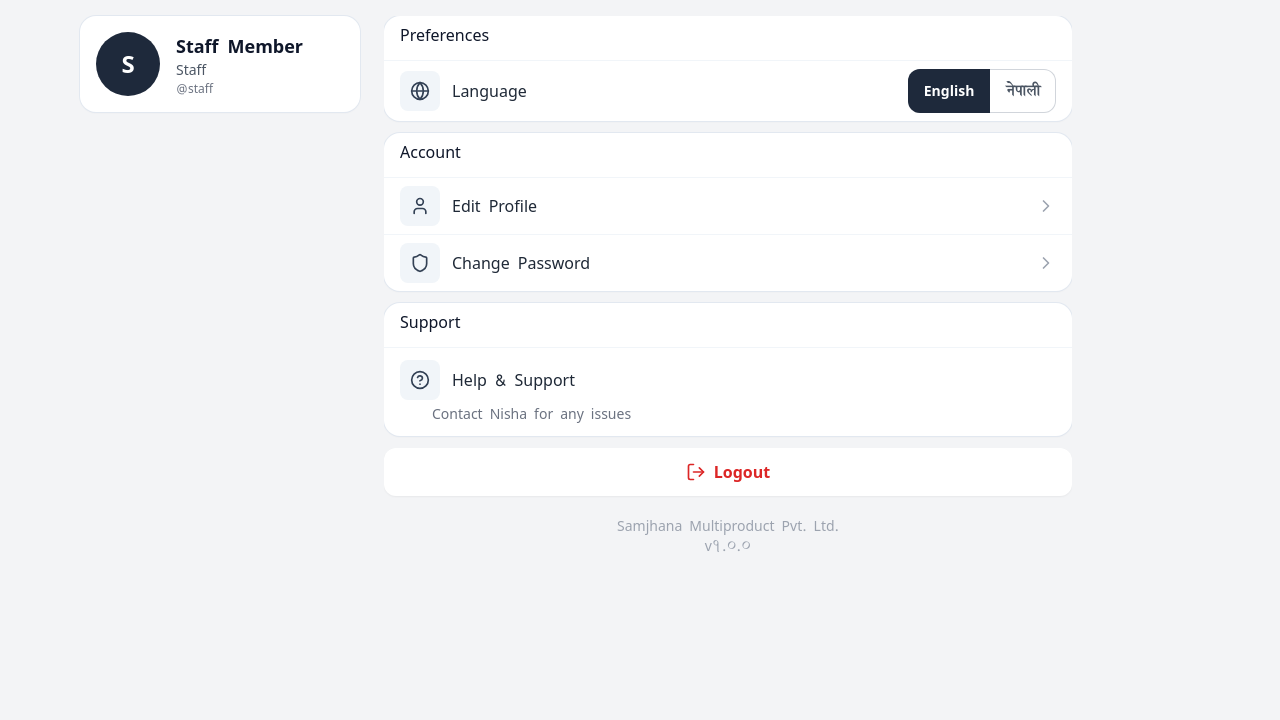
SettingsPage change password › sends the change when the new password is exactly 8 characters
Click the button "Change Password": (420, 263) [384,234,1072,291]
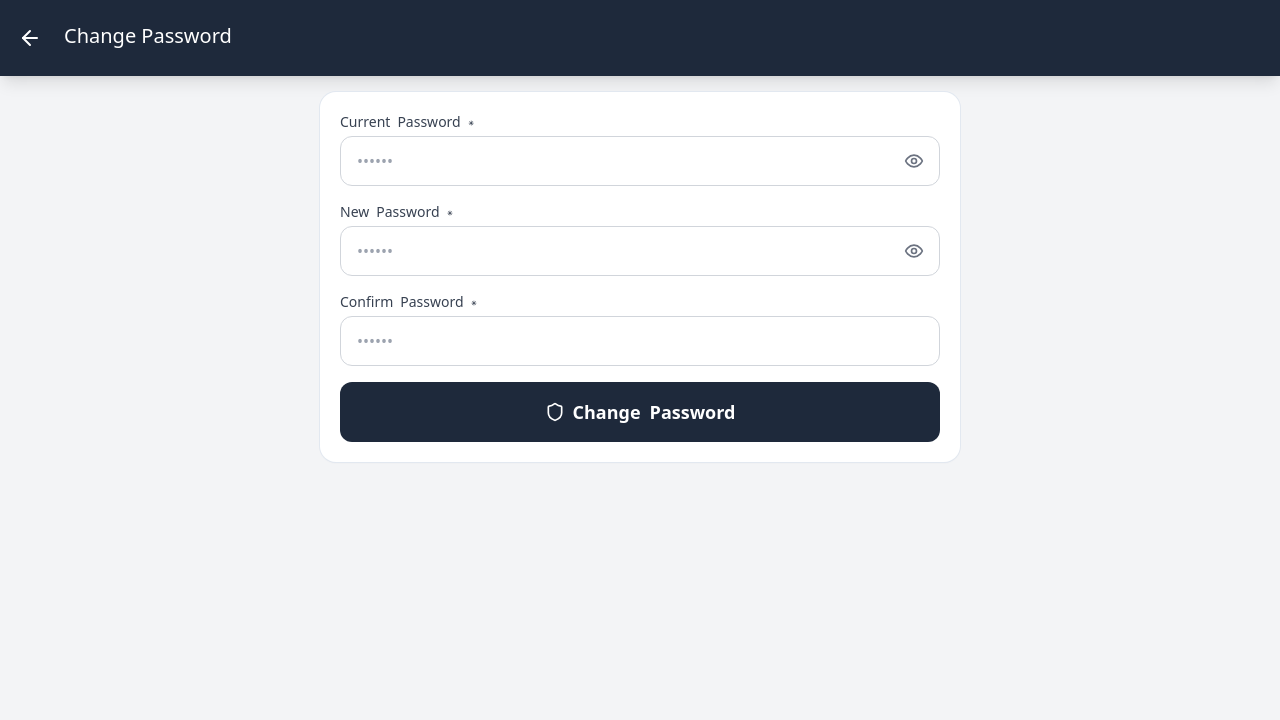
In the password field with placeholder "••••••" below "Current Password": (640, 161) [340,136,940,186], type "old-pass-123"
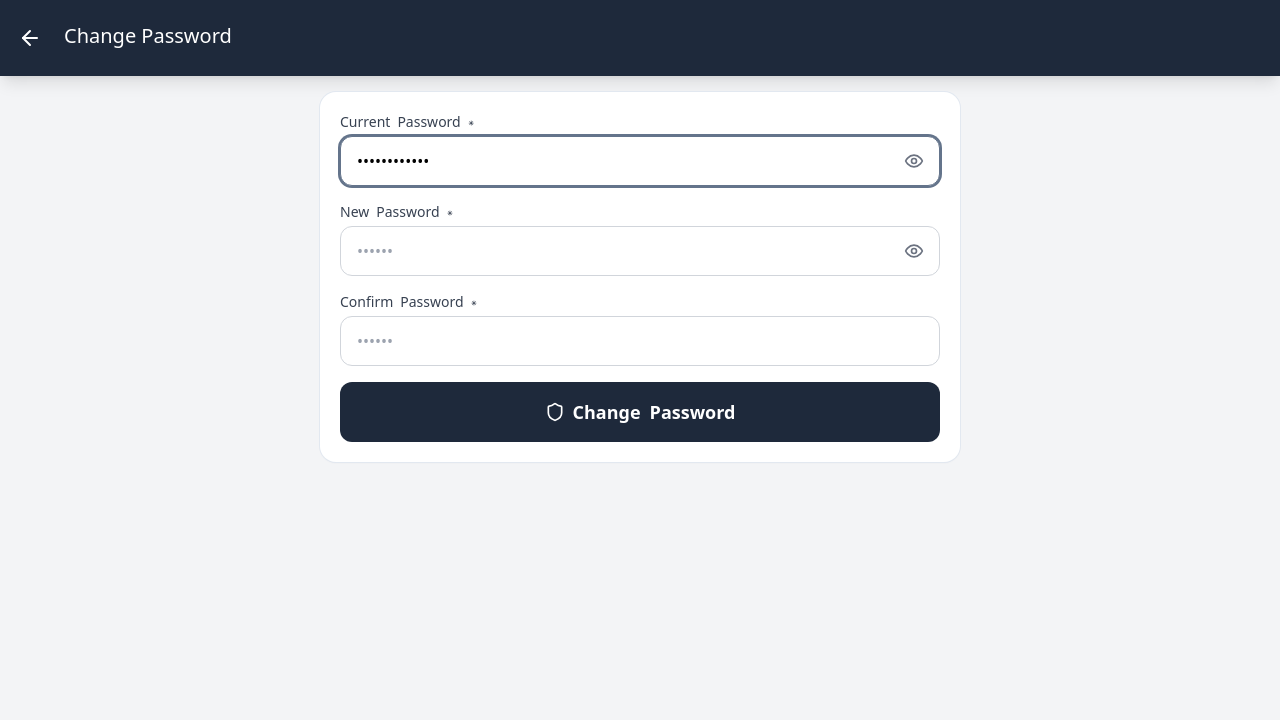
In the password field with placeholder "••••••" below "New Password": (640, 251) [340,226,940,276], type "12345678"
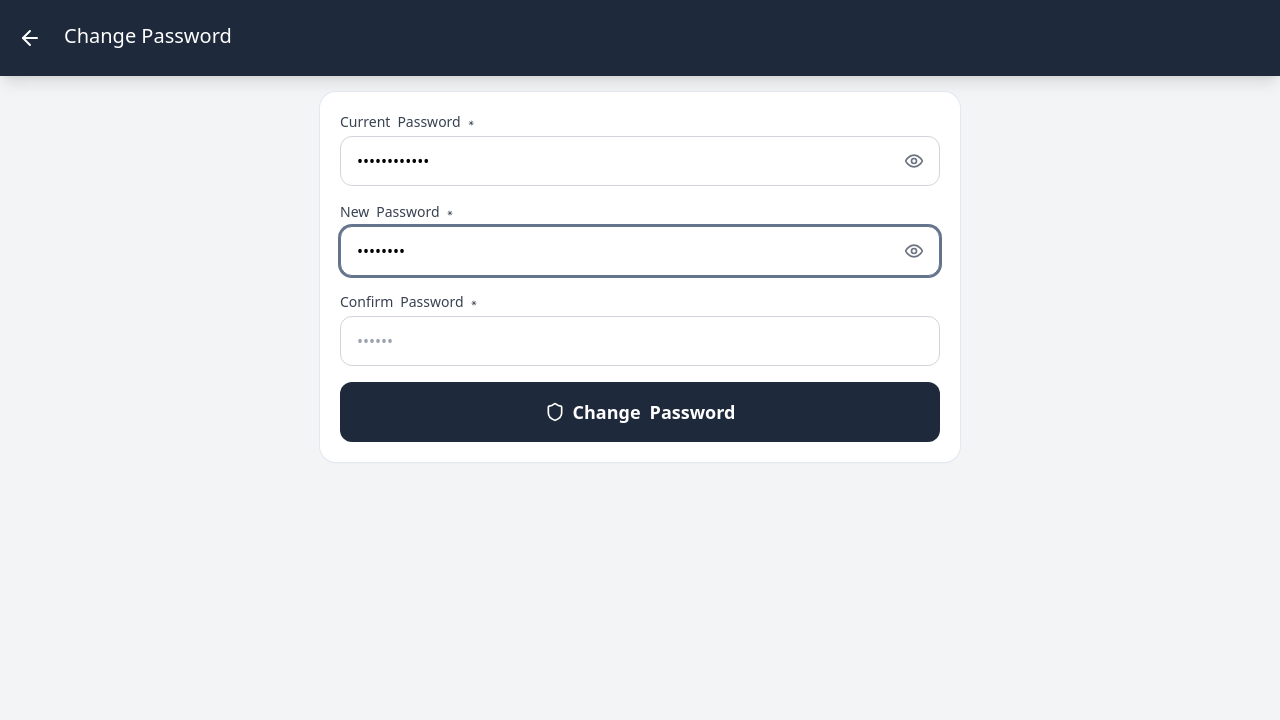
In the password field with placeholder "••••••": (640, 341) [340,316,940,366], type "12345678"
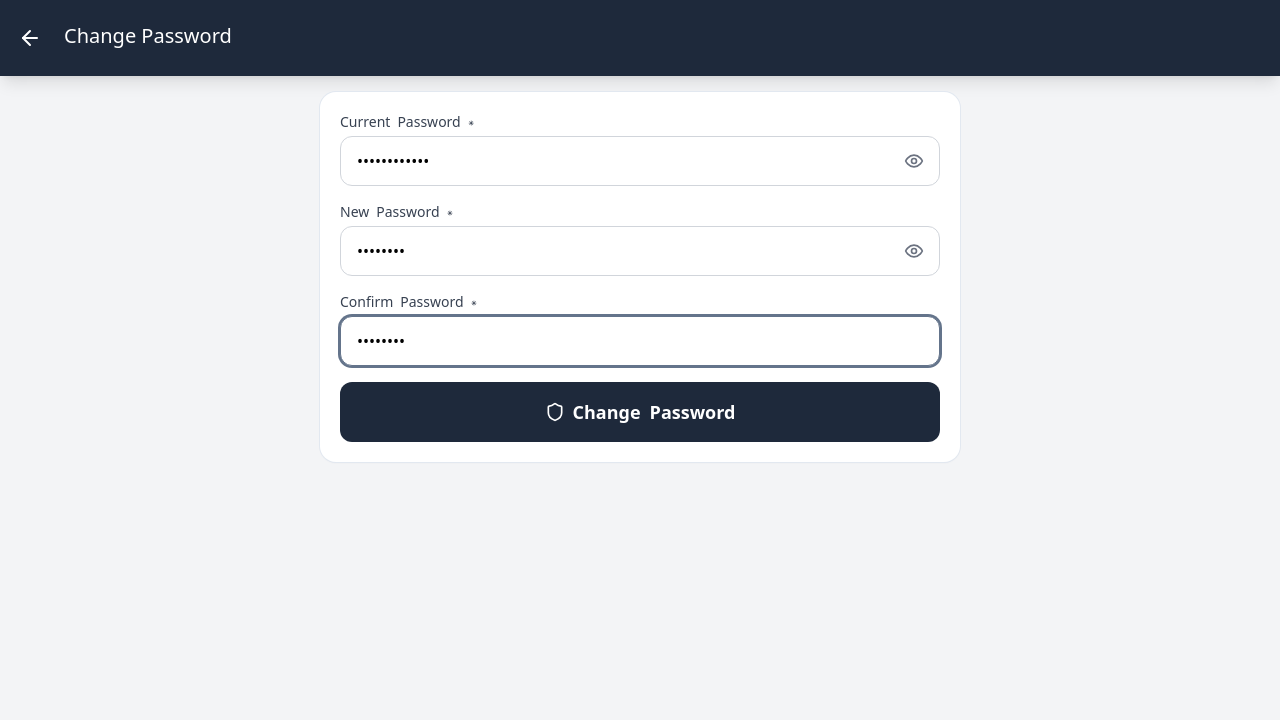
Click the button "Change Password": (640, 412) [340,382,940,442]
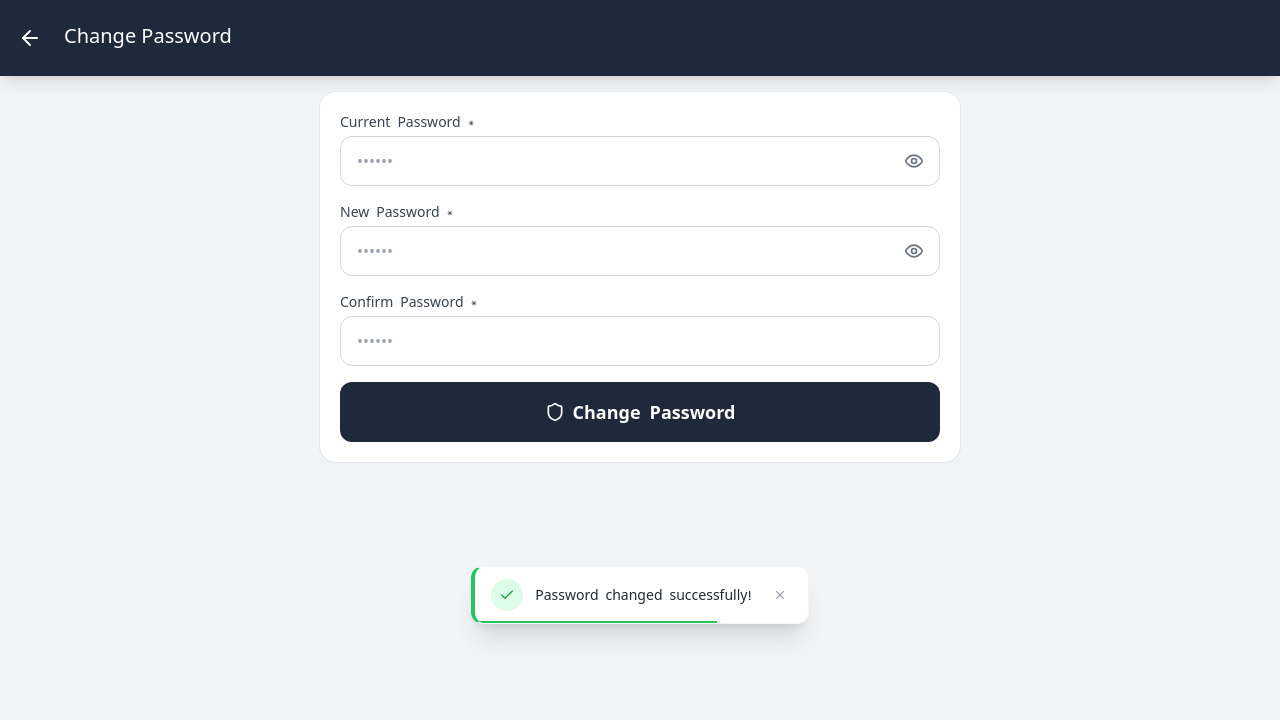
Result: the text "Password changed successfully!" is shown at [535,585,756,605]
